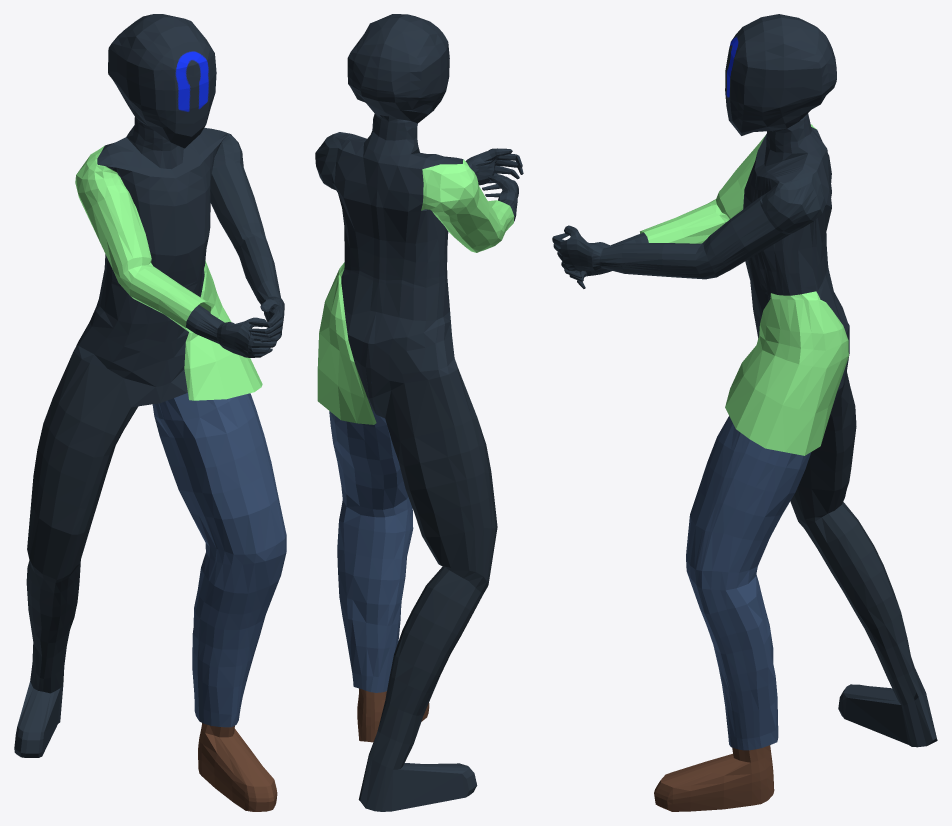
The model's file is Mar_WF_000008.obj.
3 renders of one model, left to right at view 1: azimuth 30°, elevation 25°; view 2: azimuth 150°, elevation 25°; view 3: azimuth 270°, elevation 25°, orthographic. The views are drawn at different scales.
Visible parts, largest first — view 1: Cube.000_Cube.001; view 2: Cube.000_Cube.001; view 3: Cube.000_Cube.001.
Part boxes in pixels (x1=…): Cube.000_Cube.001: x1=14, y1=14, x2=286, y2=811; Cube.000_Cube.001: x1=315, y1=14, x2=523, y2=811; Cube.000_Cube.001: x1=552, y1=14, x2=937, y2=811.
Size of the model in its own units: 1.07 by 3.85 by 1.75.
